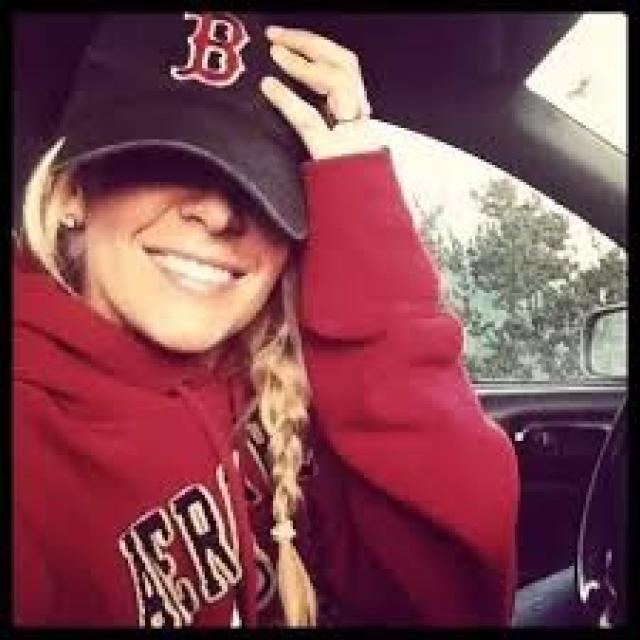cap: (14, 0, 333, 245)
